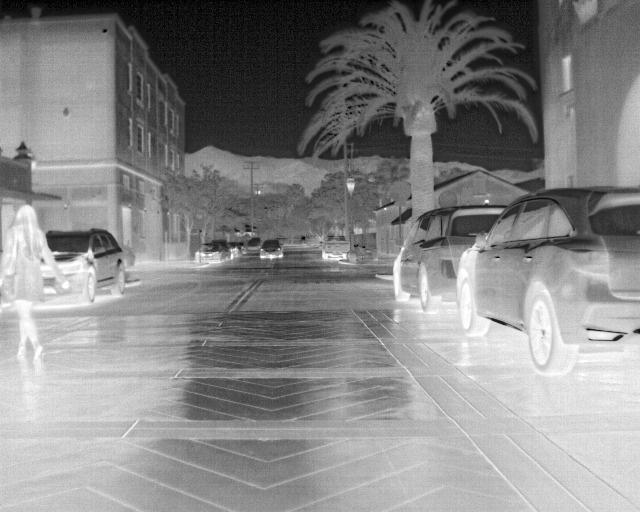bicycle: (453, 180, 639, 375), (389, 203, 507, 313), (45, 227, 128, 302), (320, 233, 352, 261), (192, 243, 229, 263), (258, 240, 285, 261), (246, 238, 263, 254)
empty: (2, 202, 70, 368)
